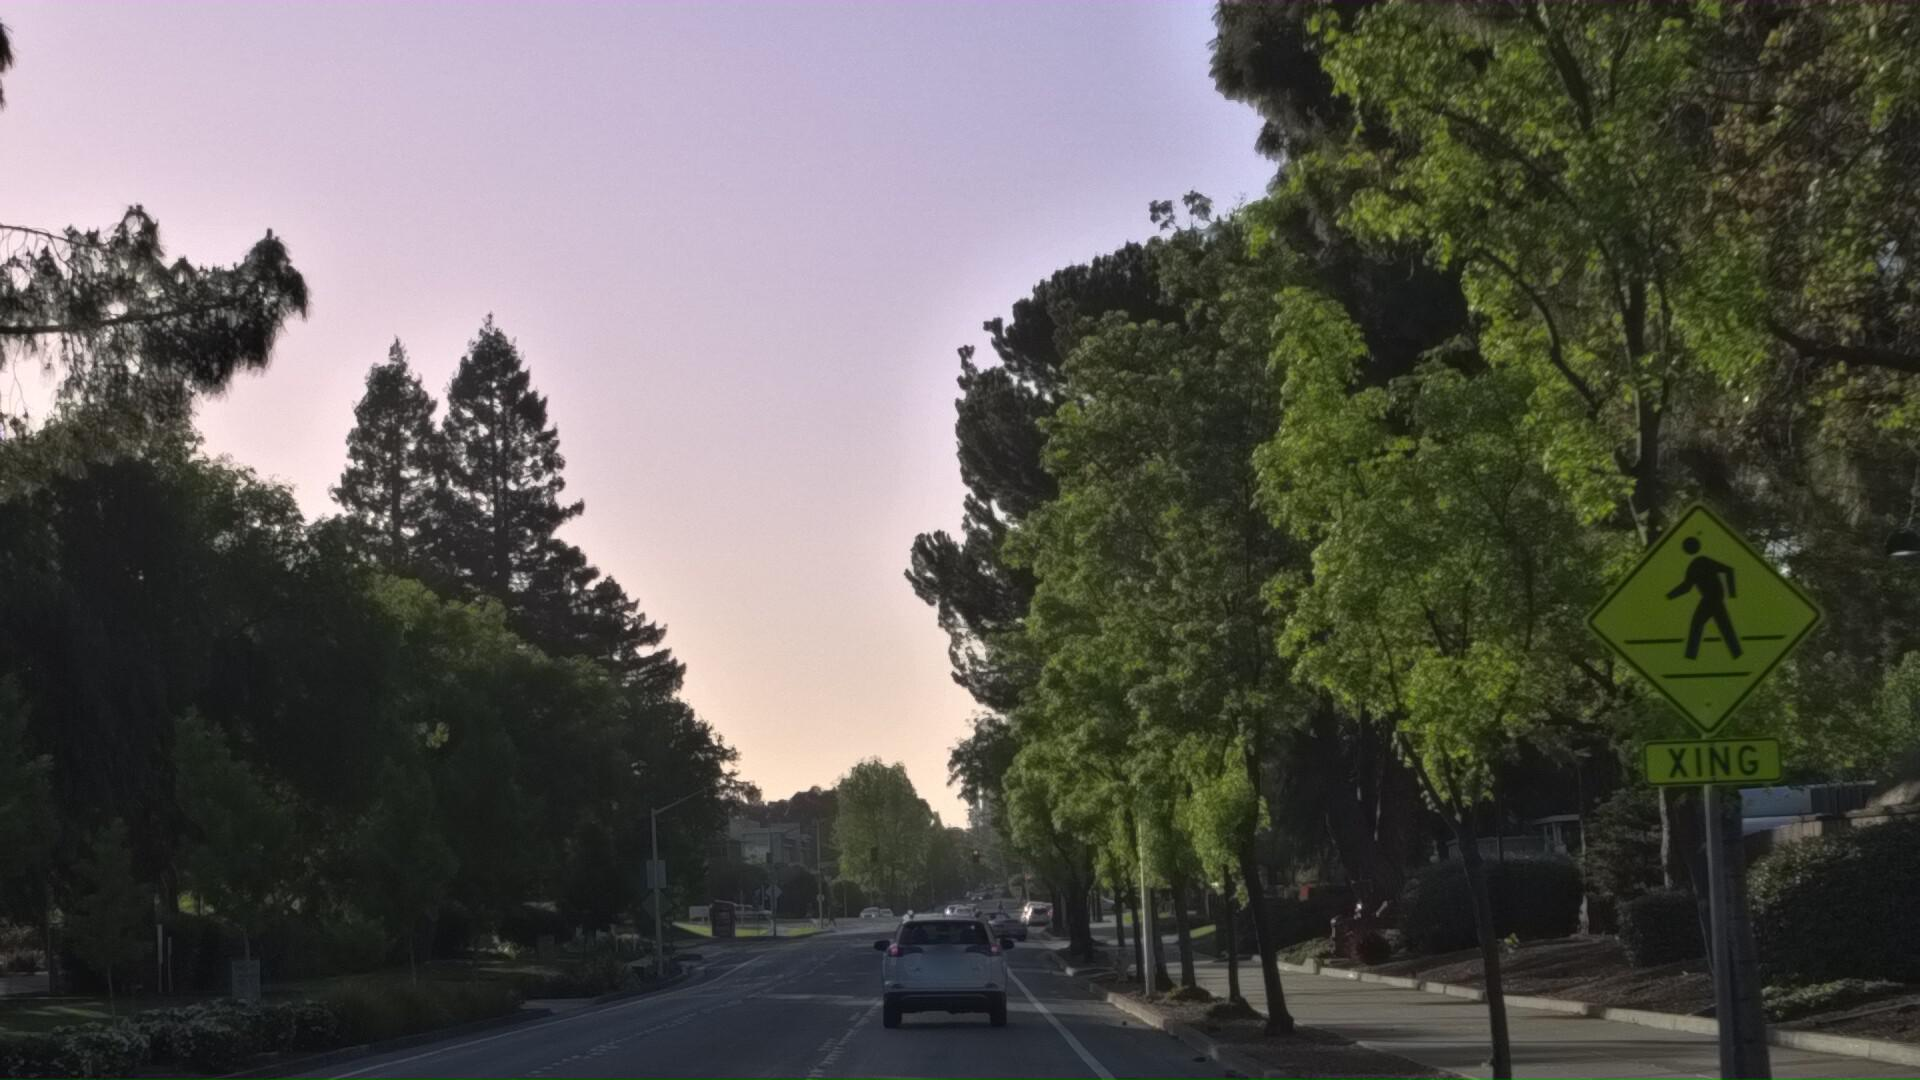car: (866, 992, 1017, 1080)
